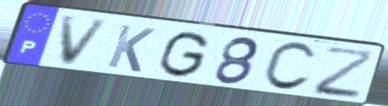8: (212, 35, 259, 87)
C: (259, 40, 319, 93)
G: (156, 30, 212, 80)
K: (104, 23, 158, 75)
V: (59, 15, 114, 68)
Z: (312, 45, 378, 101)
